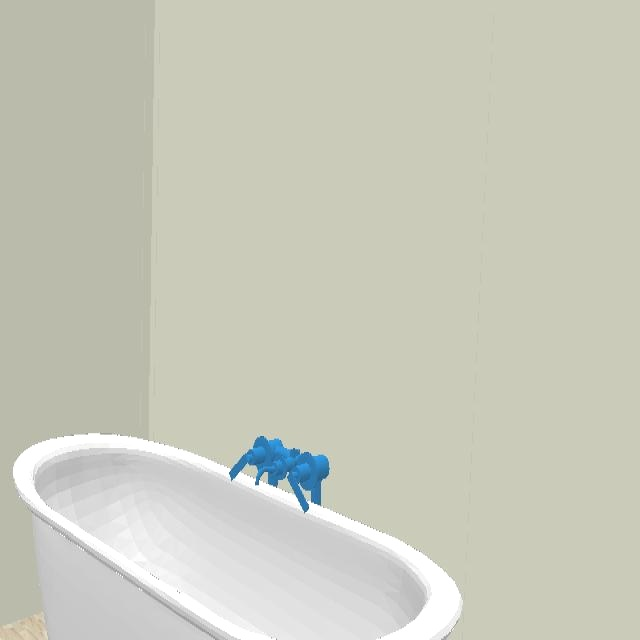bathtube: (10, 433, 464, 640)
